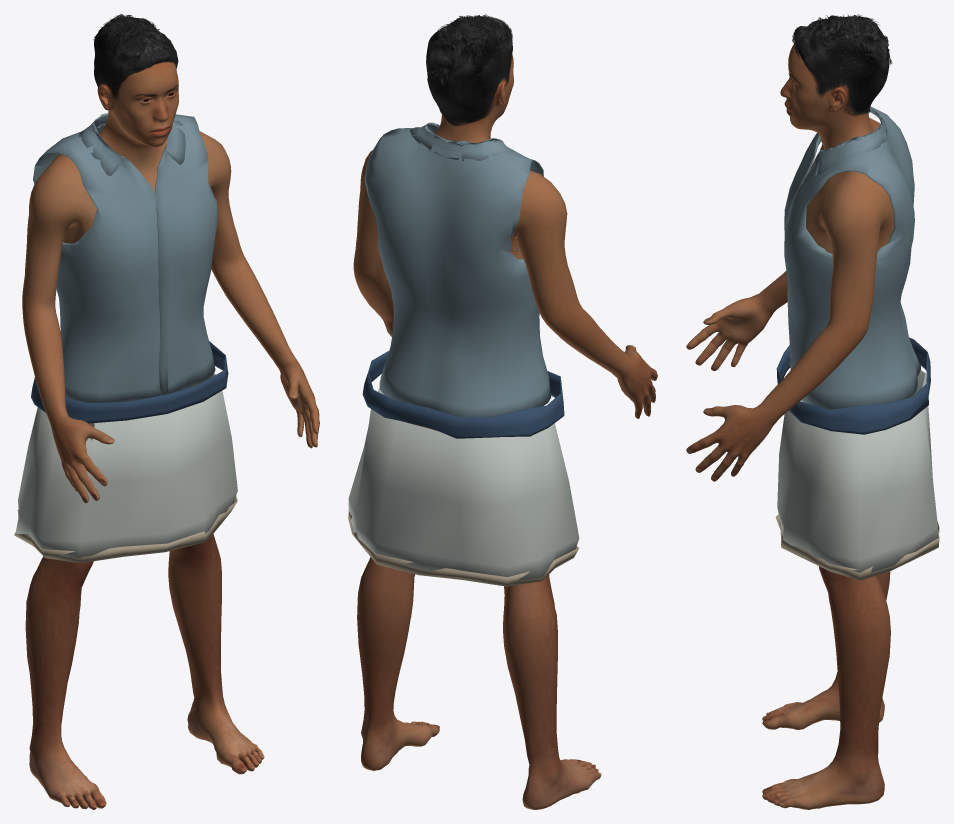
The model's file is boatman.glb.
The picture shows the model from 3 angles, left to right: view 1: azimuth 30°, elevation 25°; view 2: azimuth 150°, elevation 25°; view 3: azimuth 270°, elevation 25°; orthographic projection. The views are drawn at different scales.
Visible parts, largest first — view 1: boatman_MakeHuman_body_static_preview, Fitted cotton upper base_static_preview, Knee length wrapped dhoti_static_preview, Farmer_hair_static_preview, Narrow indigo waist binding_static_preview, Dhoti woven border_static_preview; view 2: Fitted cotton upper base_static_preview, boatman_MakeHuman_body_static_preview, Knee length wrapped dhoti_static_preview, Farmer_hair_static_preview, Narrow indigo waist binding_static_preview, Dhoti woven border_static_preview; view 3: boatman_MakeHuman_body_static_preview, Fitted cotton upper base_static_preview, Knee length wrapped dhoti_static_preview, Farmer_hair_static_preview, Narrow indigo waist binding_static_preview, Dhoti woven border_static_preview.
Boxes of the visible parts, bbox=[...] form: boatman_MakeHuman_body_static_preview: bbox=[22, 61, 319, 809]; Fitted cotton upper base_static_preview: bbox=[33, 113, 218, 403]; Knee length wrapped dhoti_static_preview: bbox=[15, 373, 237, 558]; Farmer_hair_static_preview: bbox=[93, 14, 178, 99]; Narrow indigo waist binding_static_preview: bbox=[31, 341, 228, 423]; Dhoti woven border_static_preview: bbox=[14, 496, 237, 563]; Fitted cotton upper base_static_preview: bbox=[364, 122, 551, 416]; boatman_MakeHuman_body_static_preview: bbox=[353, 54, 657, 809]; Knee length wrapped dhoti_static_preview: bbox=[348, 389, 579, 580]; Farmer_hair_static_preview: bbox=[426, 14, 512, 126]; Narrow indigo waist binding_static_preview: bbox=[362, 351, 564, 438]; Dhoti woven border_static_preview: bbox=[348, 511, 579, 586]; boatman_MakeHuman_body_static_preview: bbox=[686, 43, 893, 809]; Fitted cotton upper base_static_preview: bbox=[784, 106, 920, 409]; Knee length wrapped dhoti_static_preview: bbox=[777, 370, 937, 572]; Farmer_hair_static_preview: bbox=[792, 14, 892, 115]; Narrow indigo waist binding_static_preview: bbox=[776, 337, 930, 434]; Dhoti woven border_static_preview: bbox=[775, 514, 939, 580].
Size of the model in its own units: 0.5817 by 1.68 by 0.516.
9 materials, 4 textured.
